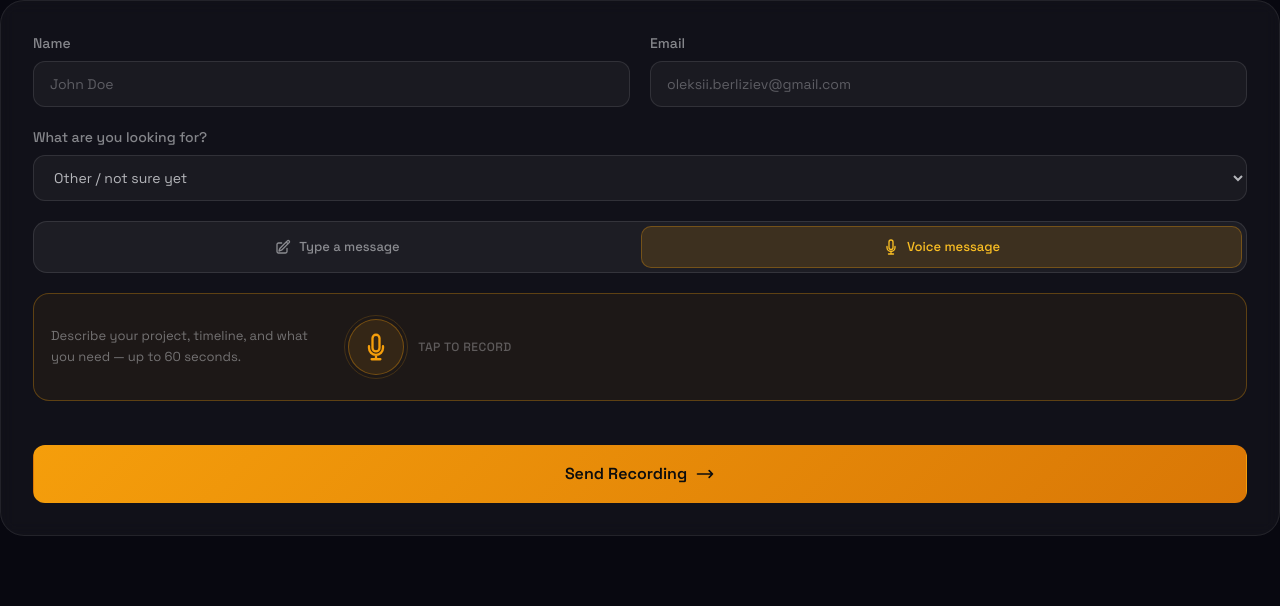
it: ContactForm › case 8: click Text tab → voice panel unmounts, text panel mounts, aria-pressed flips
What coordinates should you click on to do the following:
click the button "Type a message"
I would click on:
 (338, 247)
Its box is top-left (38, 226), bottom-right (637, 268).
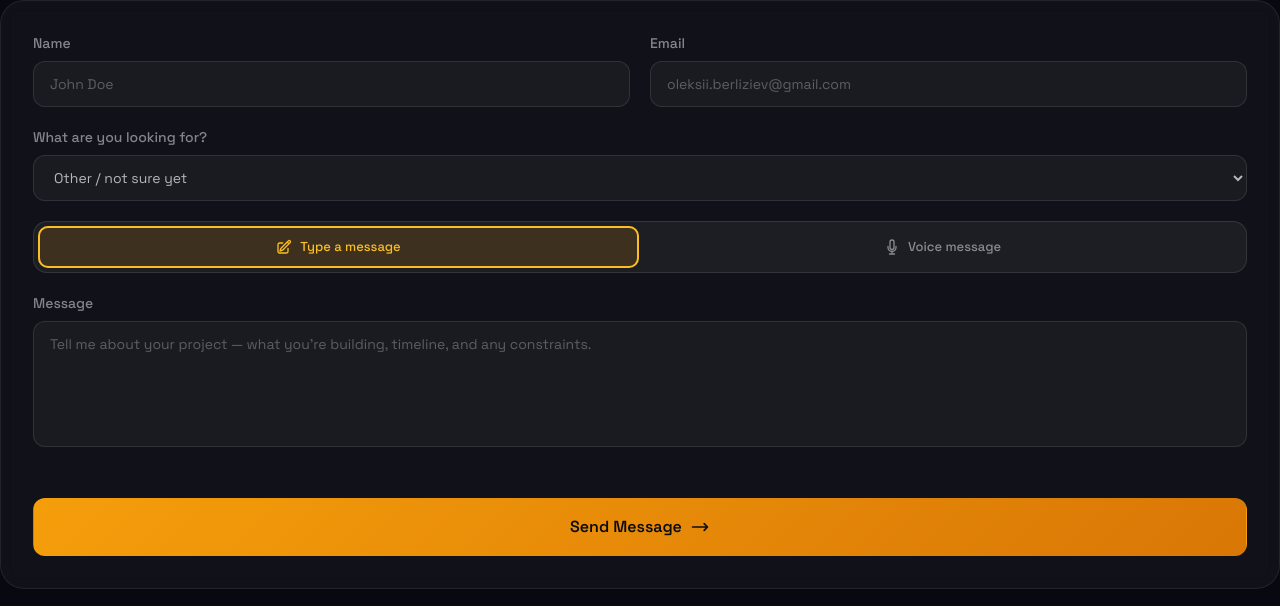
Expected: the text box labelled "Message" is shown, top-left (33, 320), bottom-right (1247, 446)
